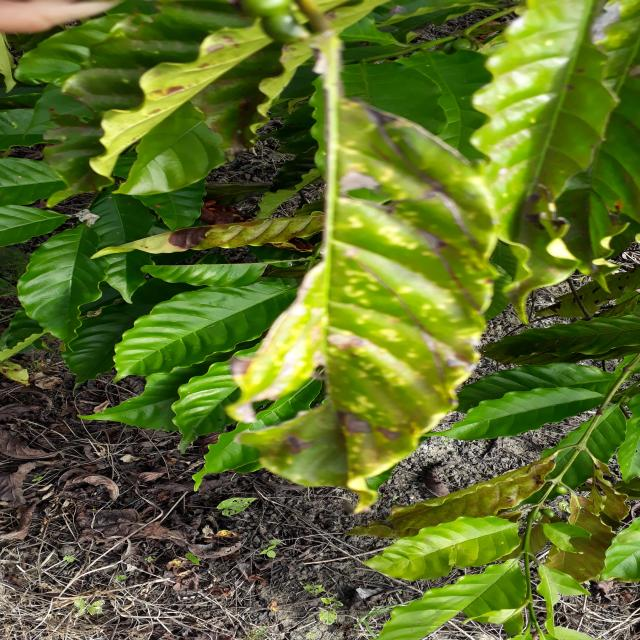Plaga-AranaRoja: (202, 102, 528, 496)
